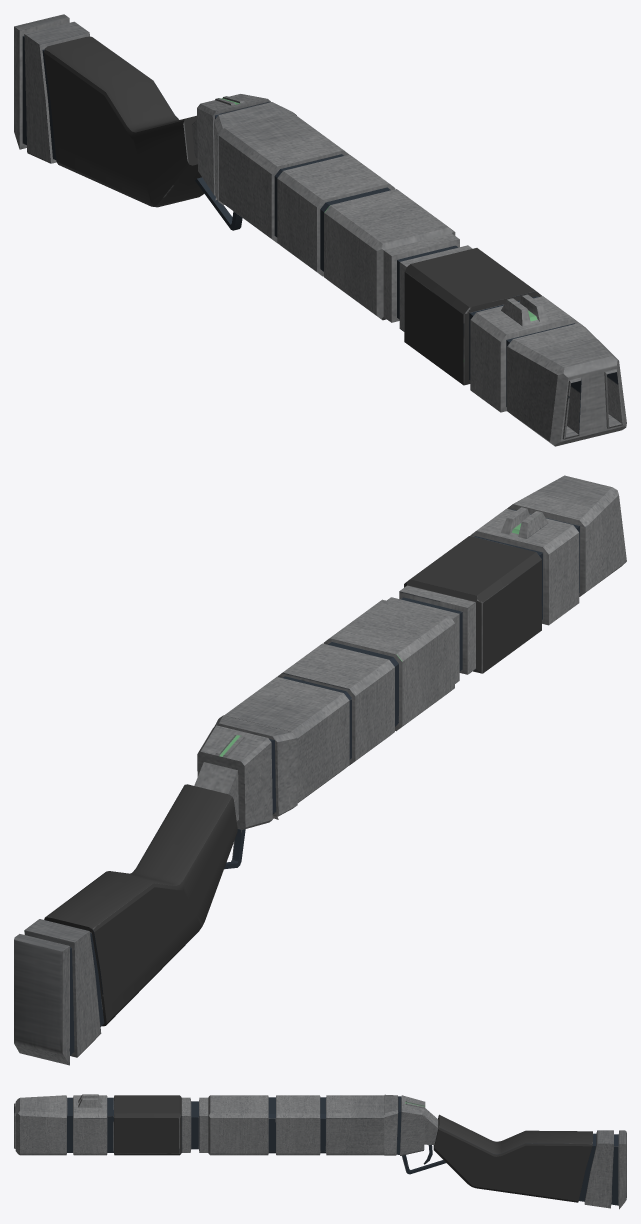
The model's file is shotgun.fbx.
The picture shows the model from 3 angles, top to bottom: view 1: azimuth 30°, elevation 25°; view 2: azimuth 150°, elevation 25°; view 3: azimuth 270°, elevation 25°; orthographic projection. The views are drawn at different scales.
Visible parts, largest first — view 1: Shotgun.001; view 2: Shotgun.001; view 3: Shotgun.001.
Boxes of the visible parts, <box> form: Shotgun.001: <box>14,14,626,446</box>; Shotgun.001: <box>14,475,626,1065</box>; Shotgun.001: <box>14,1094,626,1209</box>.
Bounding box in the file's own units: 11.7 × 27.15 × 142.
